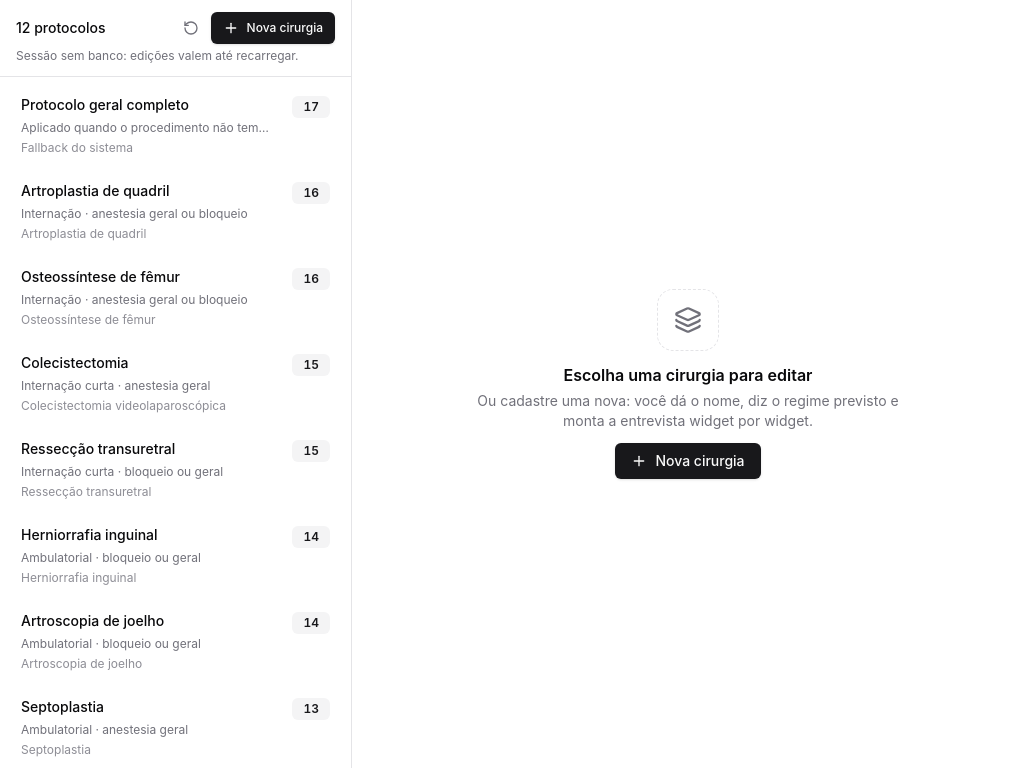
Test: Repertório › Protocolos › o protocolo geral não oferece arquivamento nem troca de nome
Click the button "Protocolo geral completo": (176, 126) [8, 85, 343, 167]
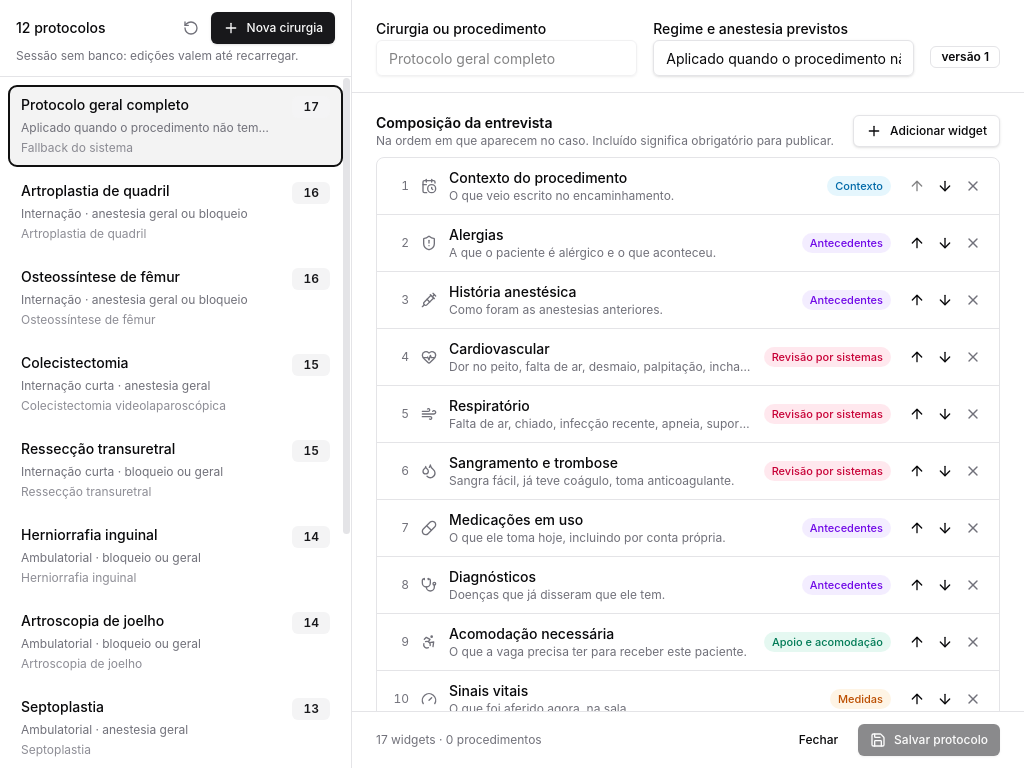
Now the field labelled "Cirurgia ou procedimento" is disabled, box [376, 40, 637, 76]
